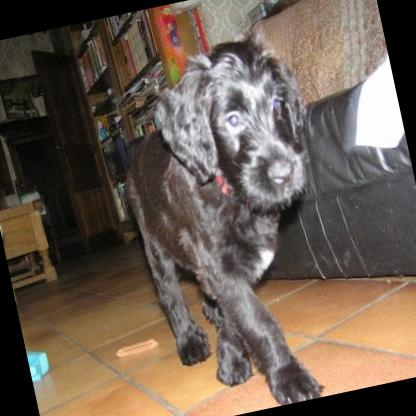briard: (94, 16, 365, 416)
